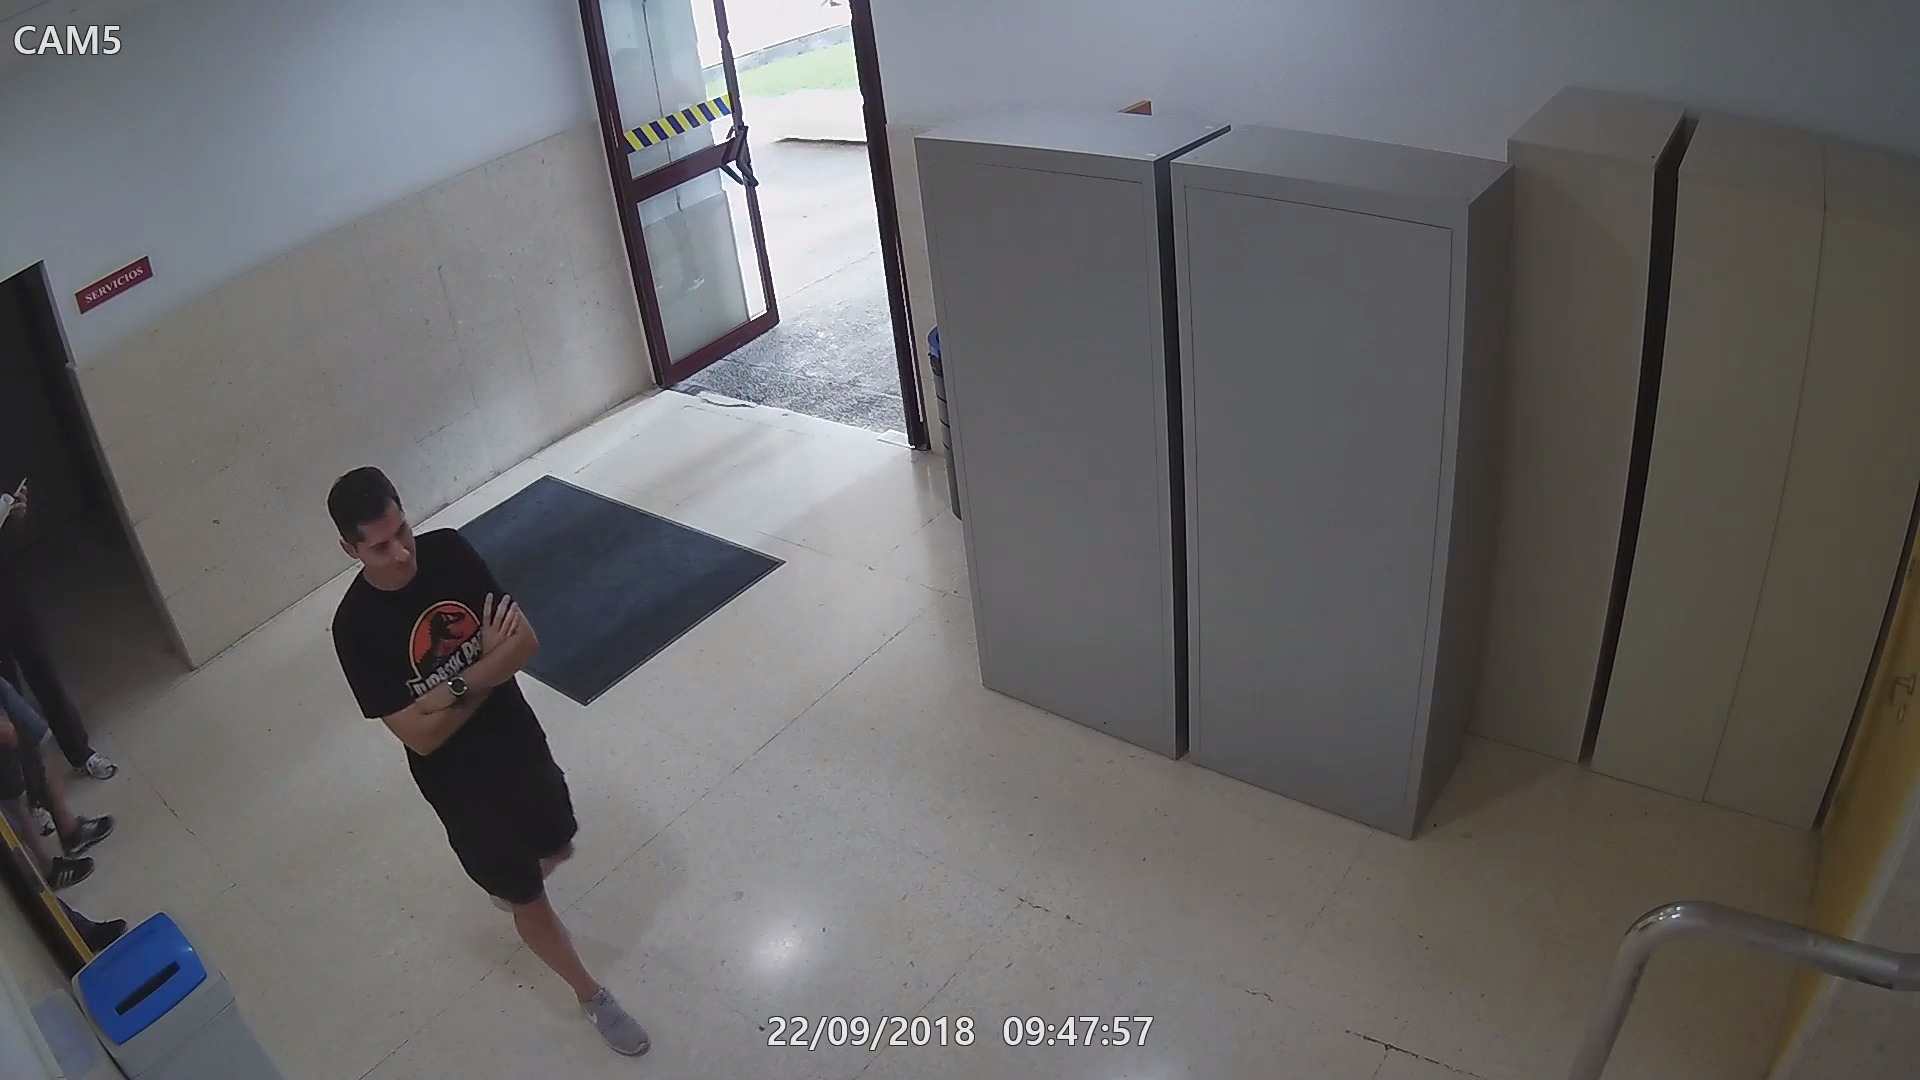Short_rifle: (0, 699, 51, 851)
